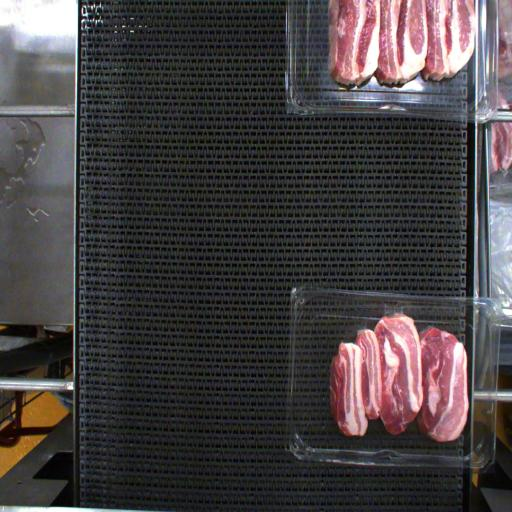packaging-error: (378, 299, 415, 320)
